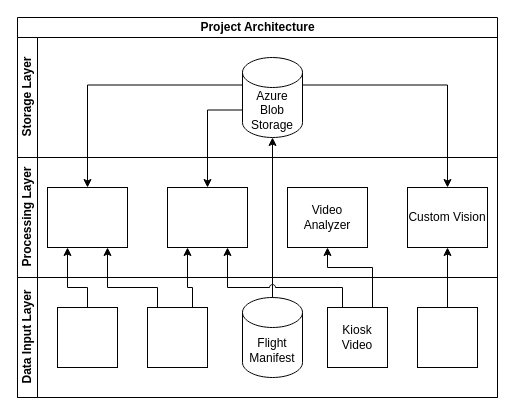
This 515x415 diagram has some shape labels left out. Each missing label, with the centre of its shape:
"Boarding Pass" belongs at [87,337].
"Face API" belongs at [207,217].
"Form Recognizer" belongs at [87,217].
"ID Card" belongs at [177,337].
"Kiosk Baggage Scan" belongs at [447,337].
